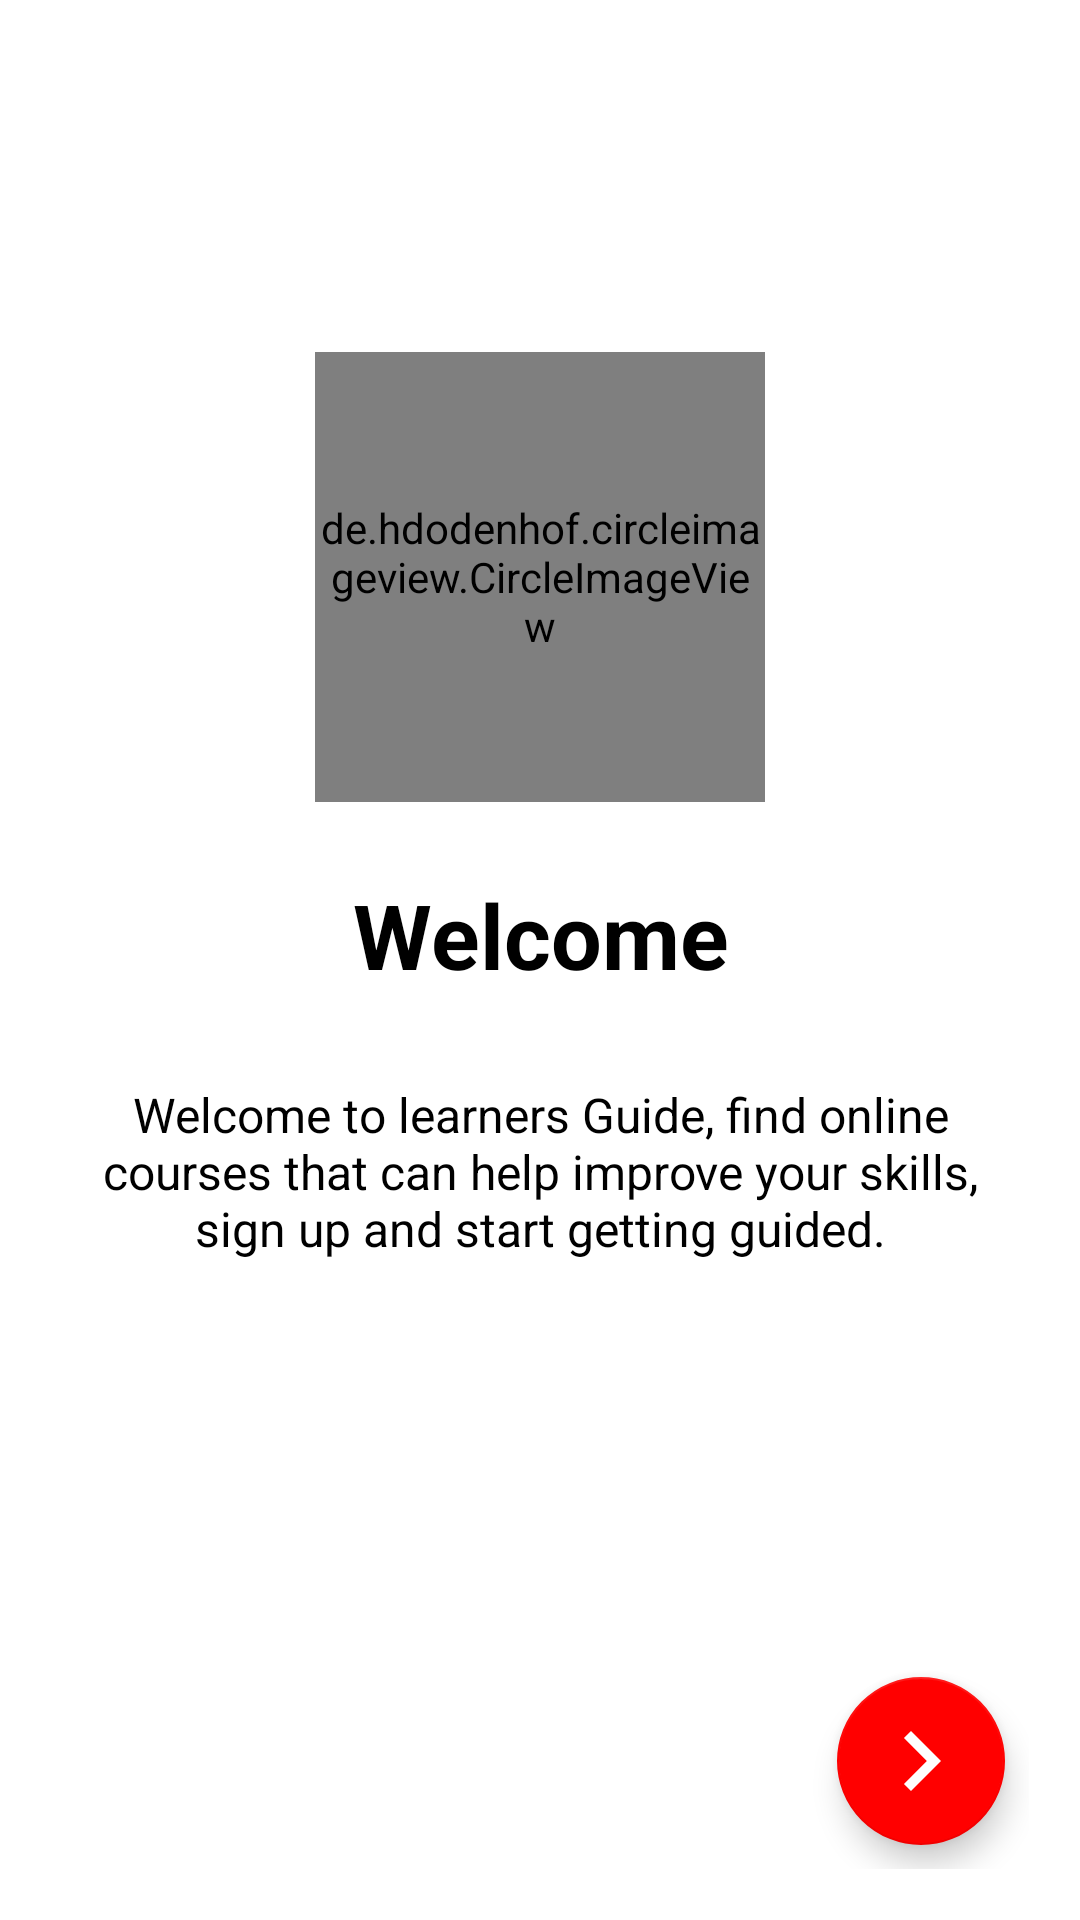

Where icons sit on this 1080w x 1920h app screen, as (x1, y1, x2, y2):
next: (837, 1677, 1005, 1845)
